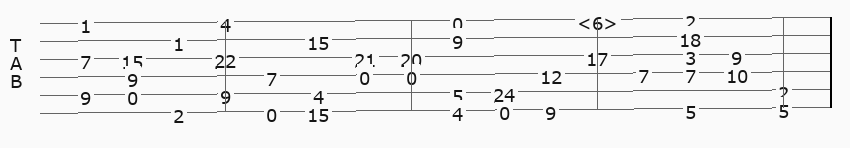0: (127, 84, 142, 101), (266, 102, 281, 119), (359, 66, 374, 83), (406, 66, 421, 83), (452, 12, 467, 29), (499, 102, 514, 119)
1: (80, 12, 95, 29), (173, 30, 188, 47)
10: (726, 66, 752, 83)
12: (540, 66, 566, 83)
15: (121, 48, 147, 65), (307, 30, 333, 47), (307, 102, 333, 119)
17: (586, 48, 612, 65)
18: (679, 30, 705, 47)
2: (173, 102, 188, 119), (685, 12, 700, 29), (778, 84, 793, 101)
20: (400, 48, 426, 65)
21: (354, 48, 380, 65)
22: (214, 48, 240, 65)
24: (493, 84, 519, 101)
3: (685, 48, 700, 65)
4: (220, 12, 235, 29), (313, 84, 328, 101), (452, 102, 467, 119)
5: (452, 84, 467, 101), (685, 102, 700, 119), (778, 102, 793, 119)
7: (80, 48, 95, 65), (266, 66, 281, 83), (638, 66, 653, 83), (685, 66, 700, 83)
9: (80, 84, 95, 101), (127, 66, 142, 83), (220, 84, 235, 101), (452, 30, 467, 47), (545, 102, 560, 119), (731, 48, 746, 65)
harmonic: (577, 12, 622, 29)
